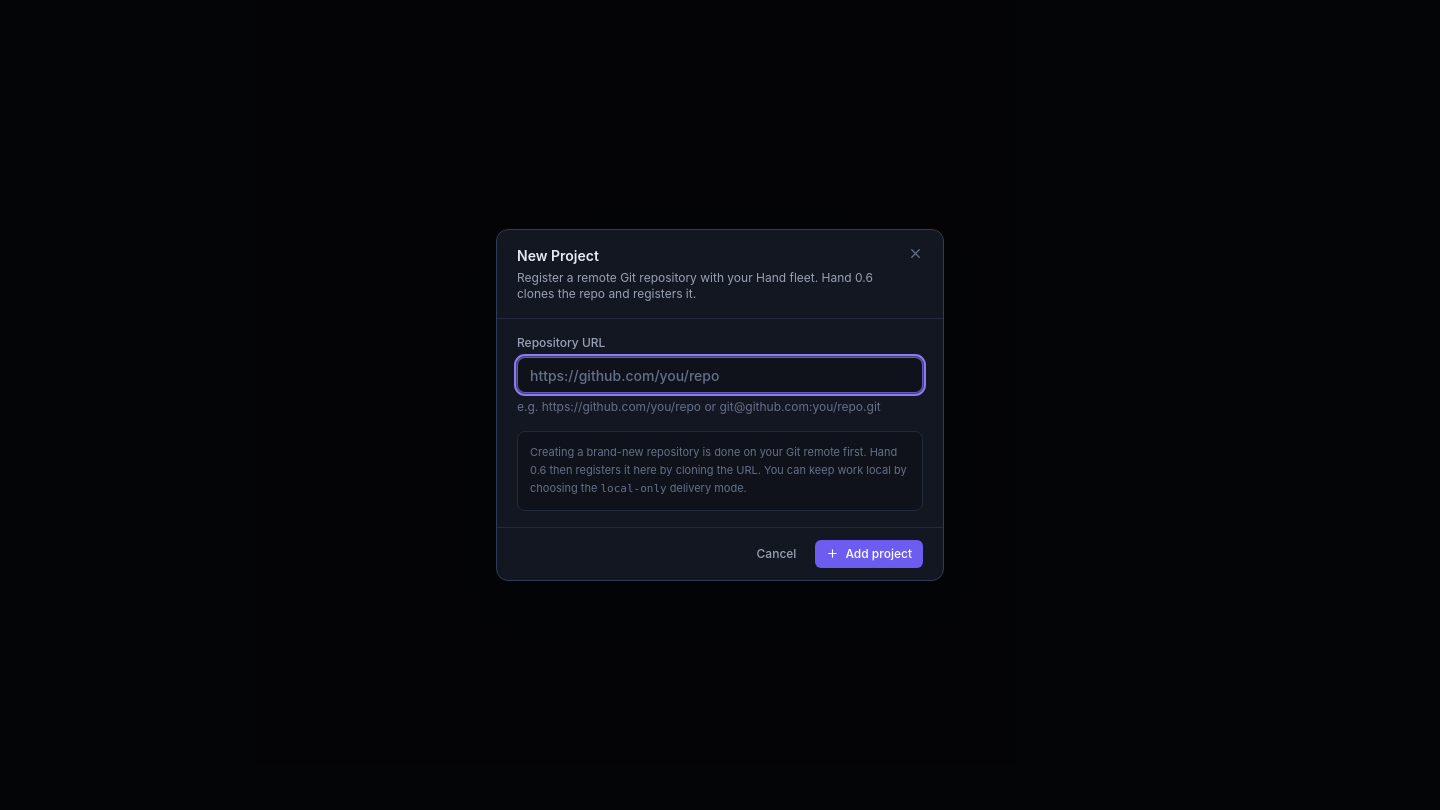
it: ProjectCreateDialog › rejects non-remote sources (Hand 0.6 contract)
In the field labelled "Repository URL": point(720, 375) [517, 357, 923, 393], type "C:\\dev\\local-repo"
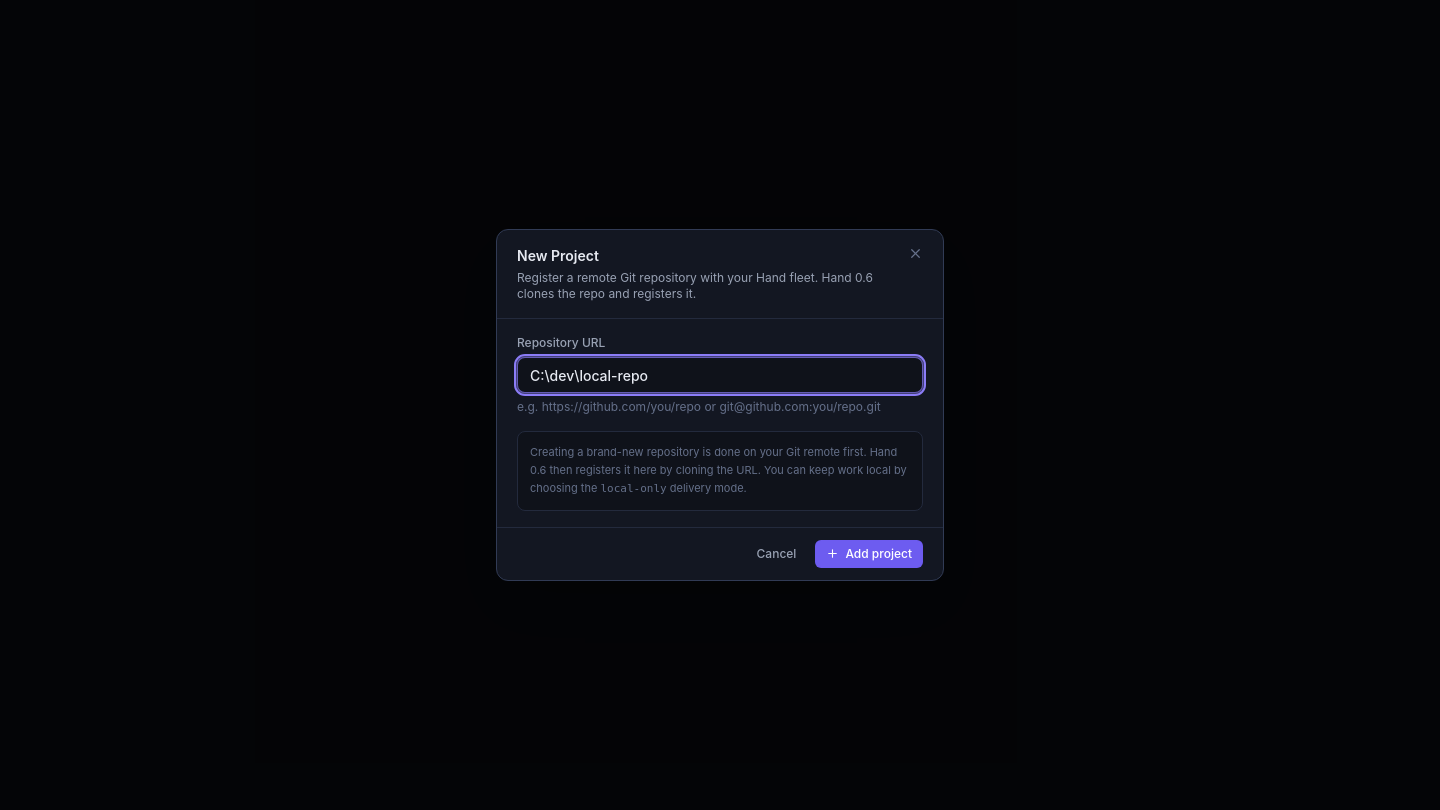
Click the button "Add project": point(869, 554) [815, 540, 923, 568]
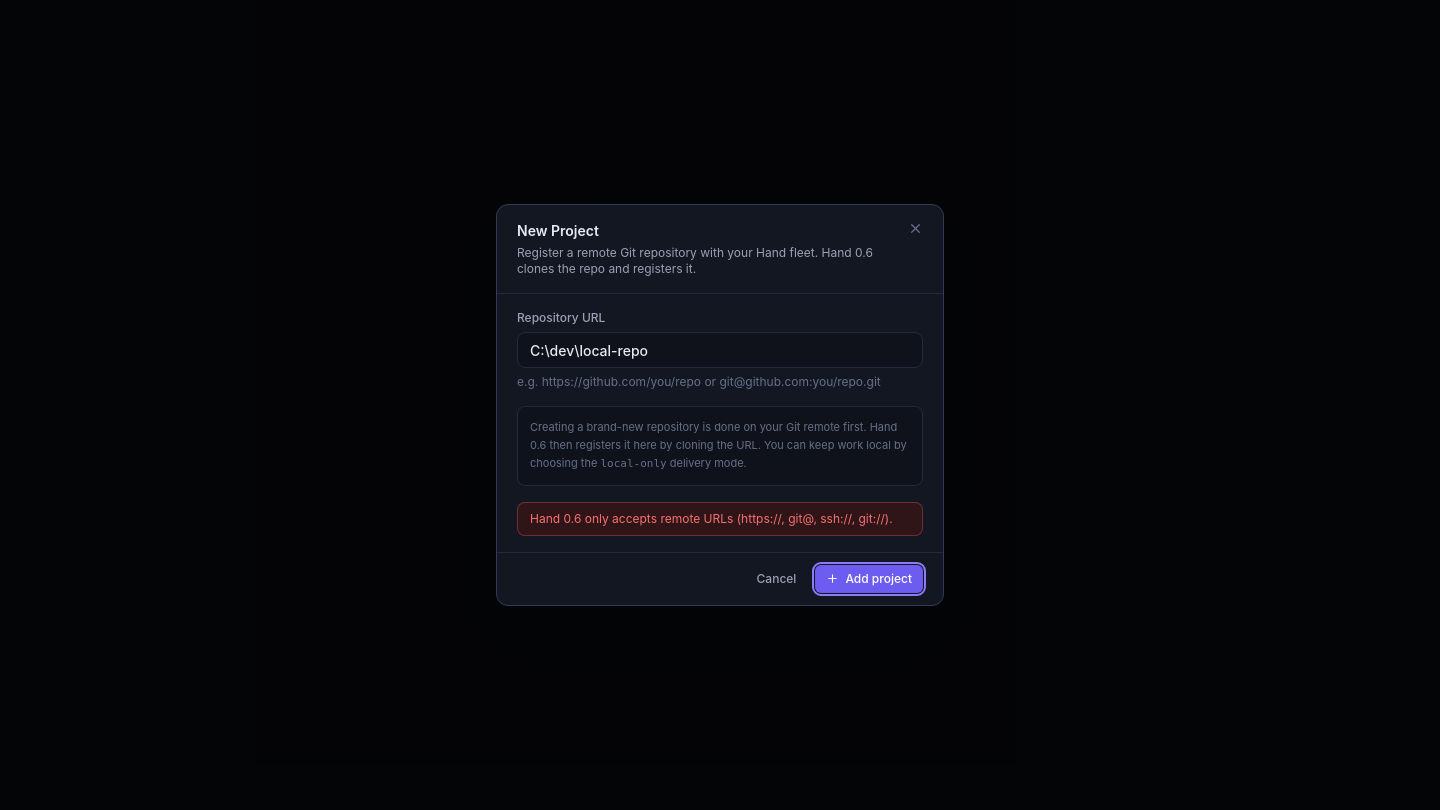
Expected: the text "only accepts remote URLs" is shown, [530, 511, 893, 526]
